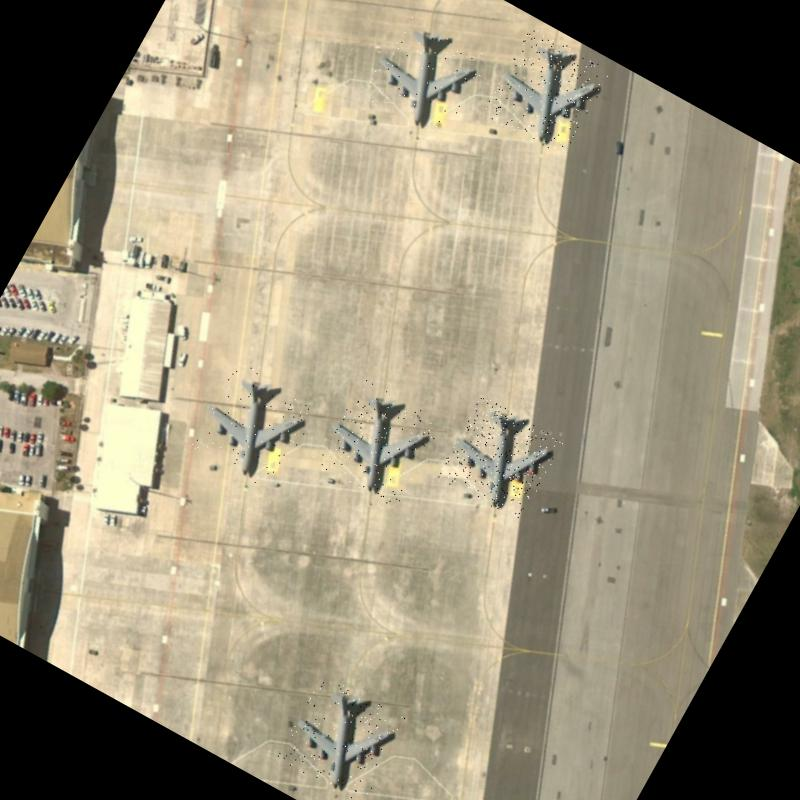A14: (481, 26, 612, 158), (190, 360, 320, 493), (360, 10, 490, 142), (274, 672, 408, 800), (315, 377, 443, 508), (435, 394, 564, 522)
